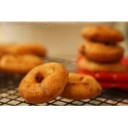vada: (15, 62, 67, 101), (64, 70, 103, 99), (80, 56, 126, 76), (83, 41, 125, 62), (82, 24, 127, 42)
